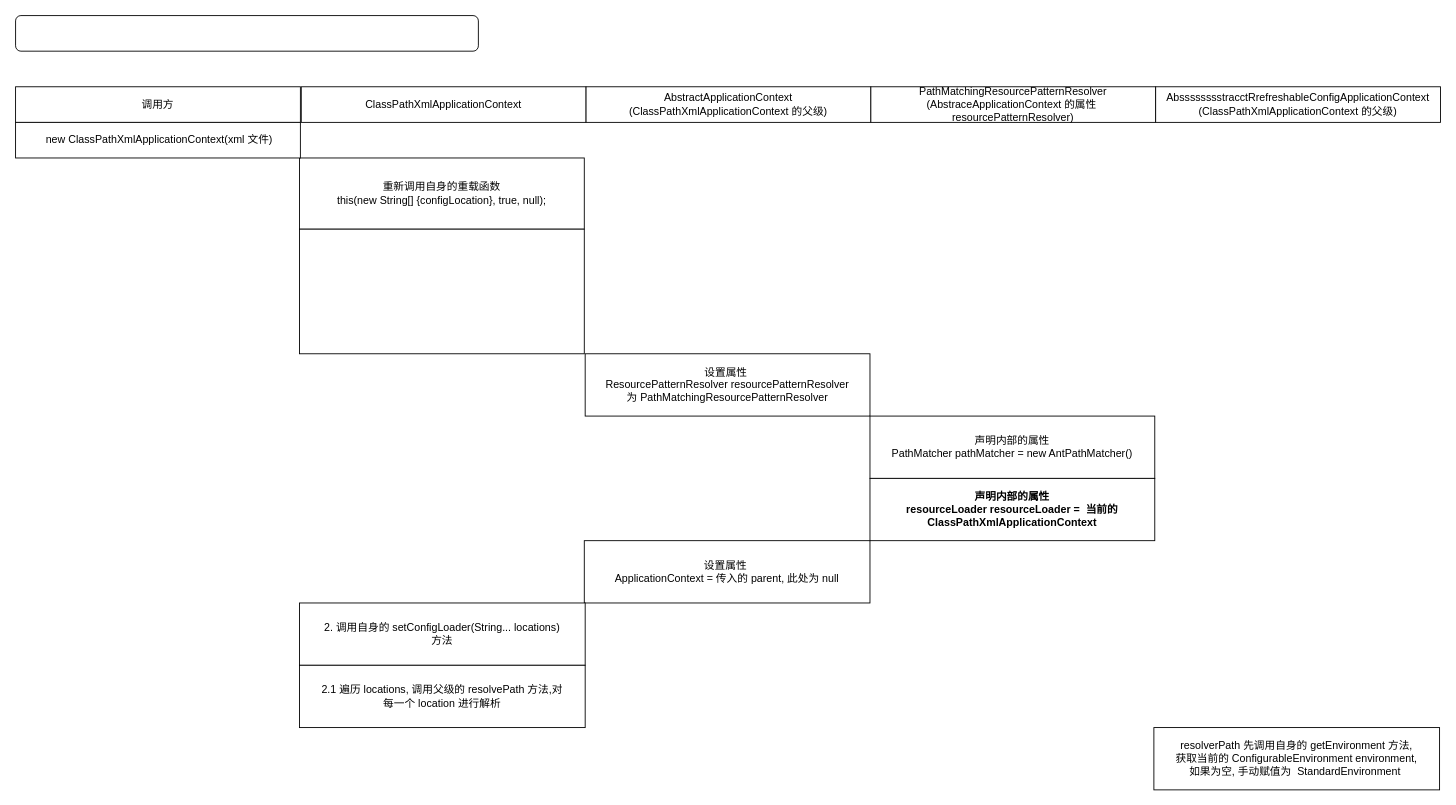
This 1456x805 diagram has some shape labels left out. Each missing label, with the centre of its shape:
"new ClassPathXmlApplicationContext" goes at (x=246, y=33).
"重载方法 1. super(parent) 会调用父级的构造方法, 一直往上到 AbstractApplicationContext" goes at (x=441, y=291).
